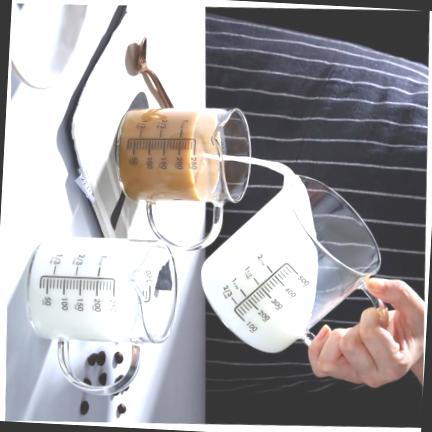container: (201, 157, 380, 352), (26, 237, 177, 395), (116, 108, 249, 205)
fluid: (199, 193, 302, 353), (27, 239, 125, 344), (121, 113, 210, 202)
fluid-surface: (282, 177, 320, 324), (99, 237, 142, 342), (189, 113, 223, 199)
